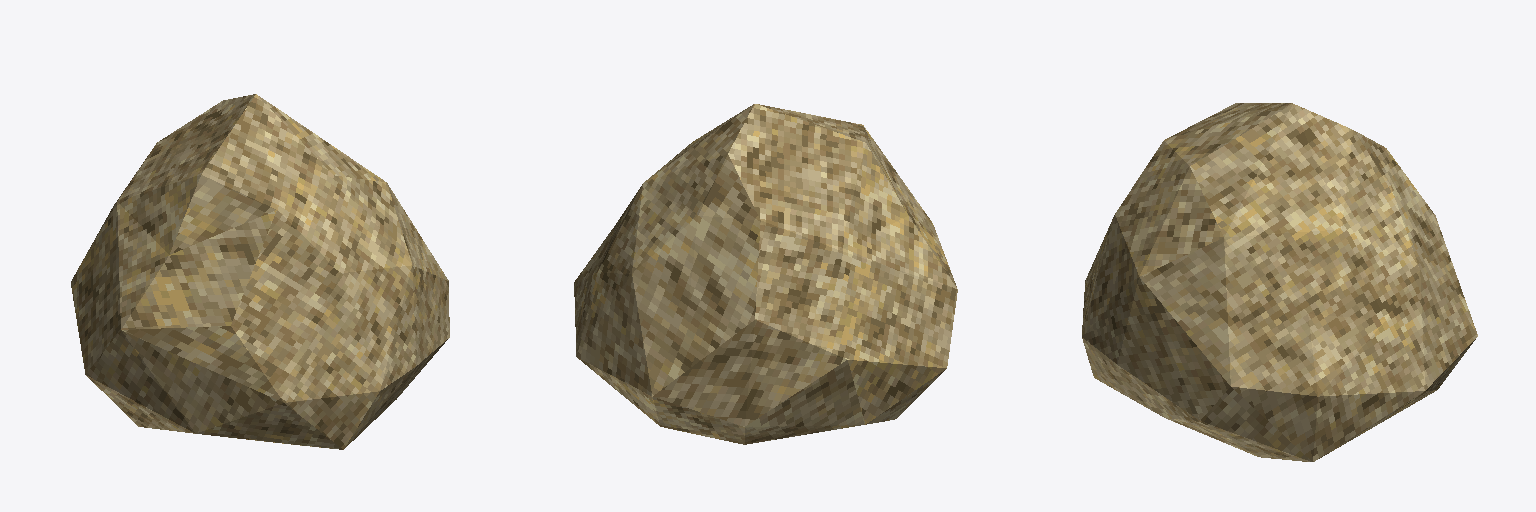
The picture shows the model from 3 angles: view 1: azimuth 30°, elevation 25°; view 2: azimuth 150°, elevation 25°; view 3: azimuth 270°, elevation 25°; orthographic projection.
Visible parts, largest first — view 1: lboulderdes_0; view 2: lboulderdes_0; view 3: lboulderdes_0.
Boxes of the visible parts, x1,y1,x2,y2 form: lboulderdes_0: [71, 94, 449, 449]; lboulderdes_0: [574, 104, 957, 444]; lboulderdes_0: [1082, 103, 1477, 461].
Size of the model in its own units: 2.39 by 2.03 by 2.35.
Materials: 1 (1 with a texture image).